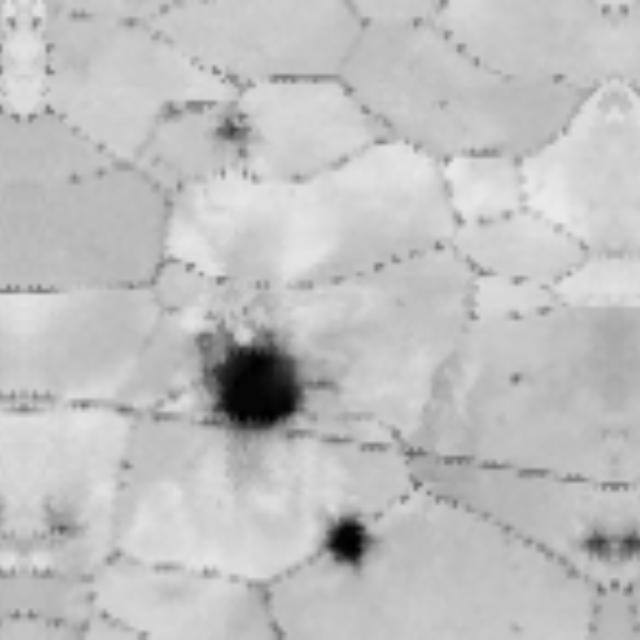good_void: (181, 303, 350, 460), (315, 499, 388, 578), (199, 94, 272, 171), (24, 488, 93, 555), (572, 529, 616, 566), (502, 357, 537, 399), (0, 503, 24, 555), (616, 529, 640, 566), (435, 93, 451, 117)
